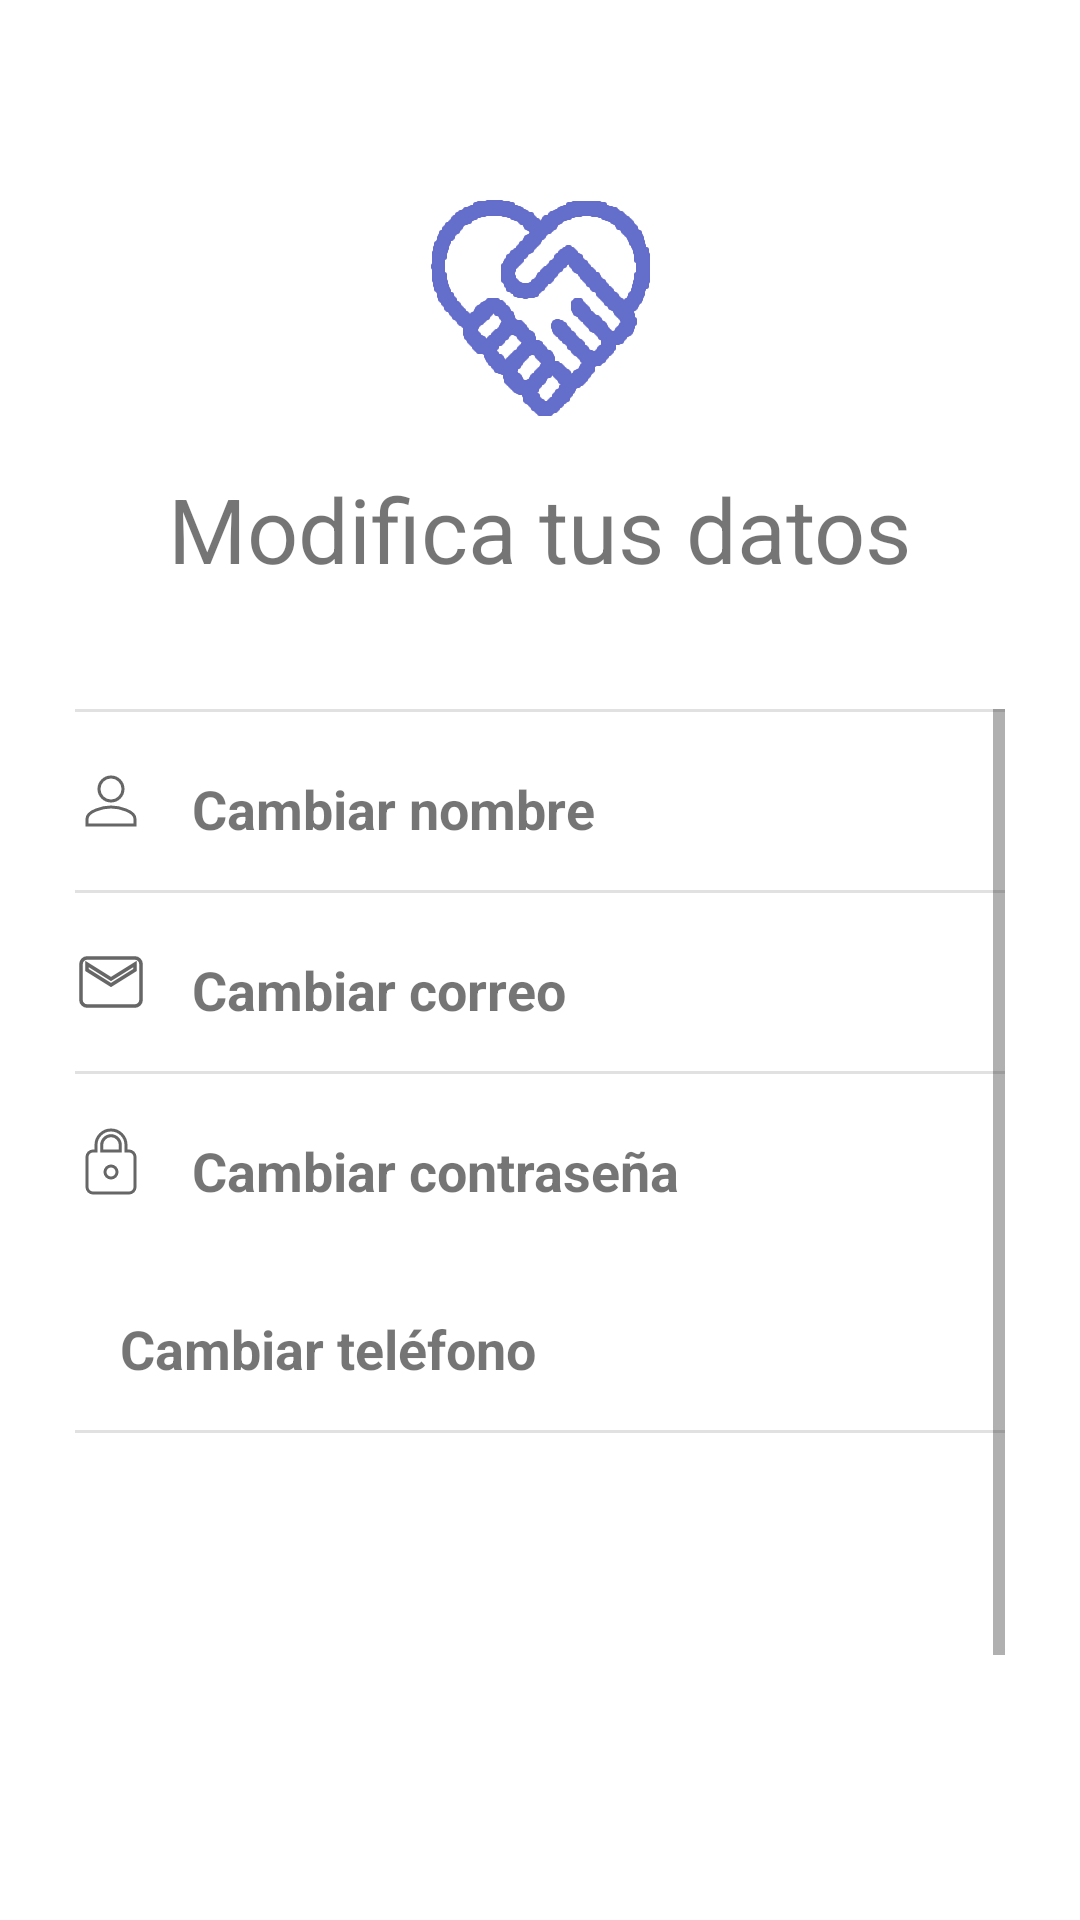

Locate icon controls on the screen. Image size 1080 x 1920, boxes as (x1, y1, x2, y2).
candado: (85, 1128, 137, 1195)
person: (85, 775, 137, 827)
